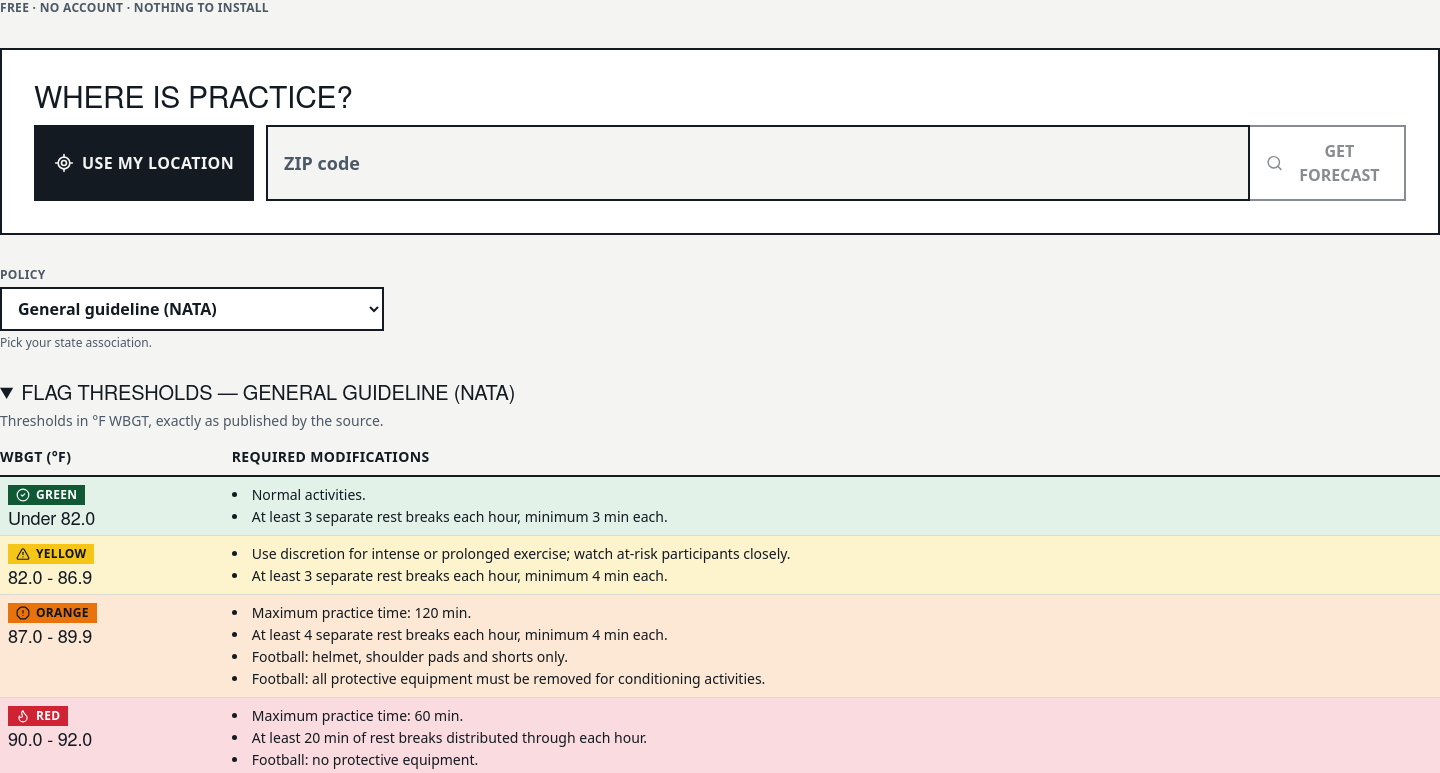
use my location › adopts the NWS state without re-fetching the forecast
The width and height of the screenshot is (1440, 773).
Click the button "Use my location". click: (144, 163)
box: [34, 125, 254, 201]
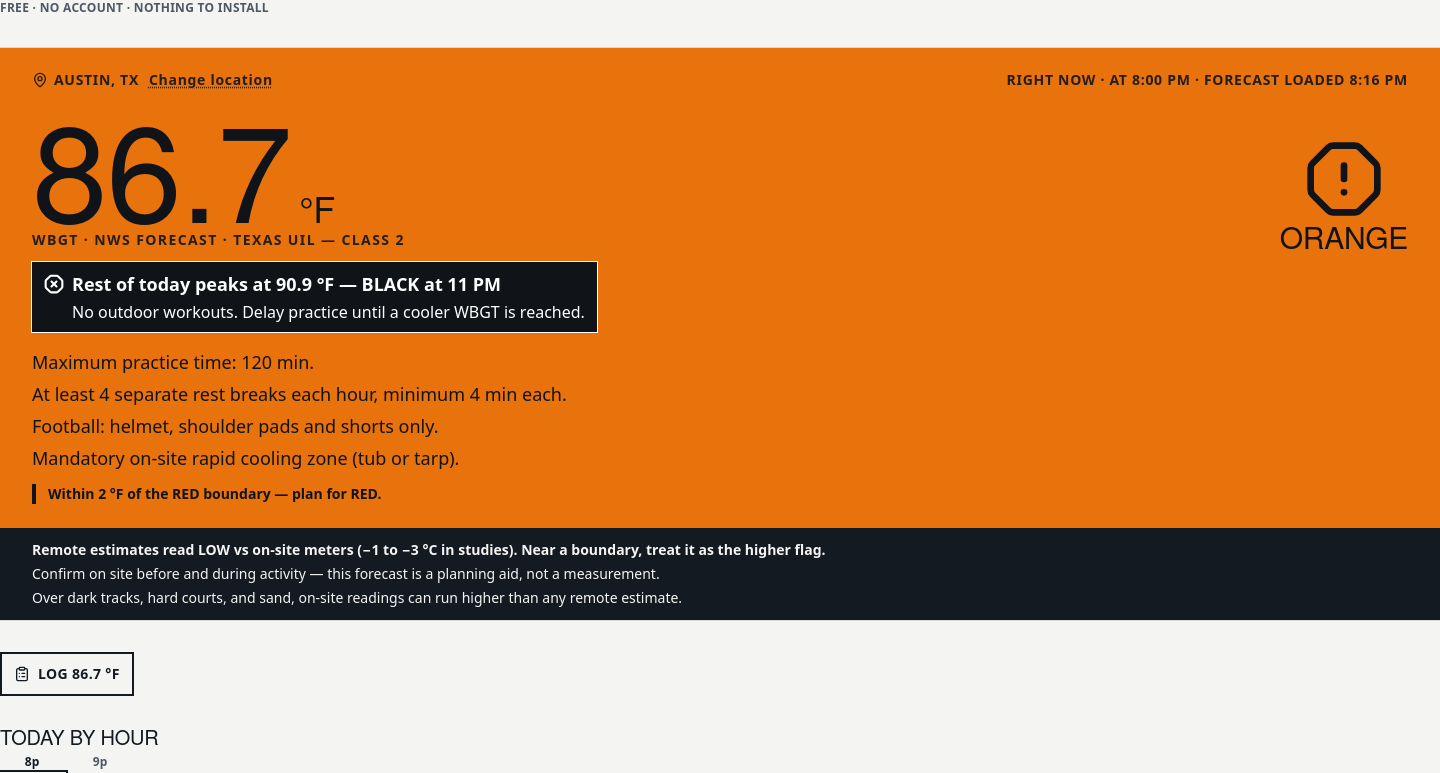
Expected: the text "Austin, TX" is shown, [54, 70, 139, 89]
